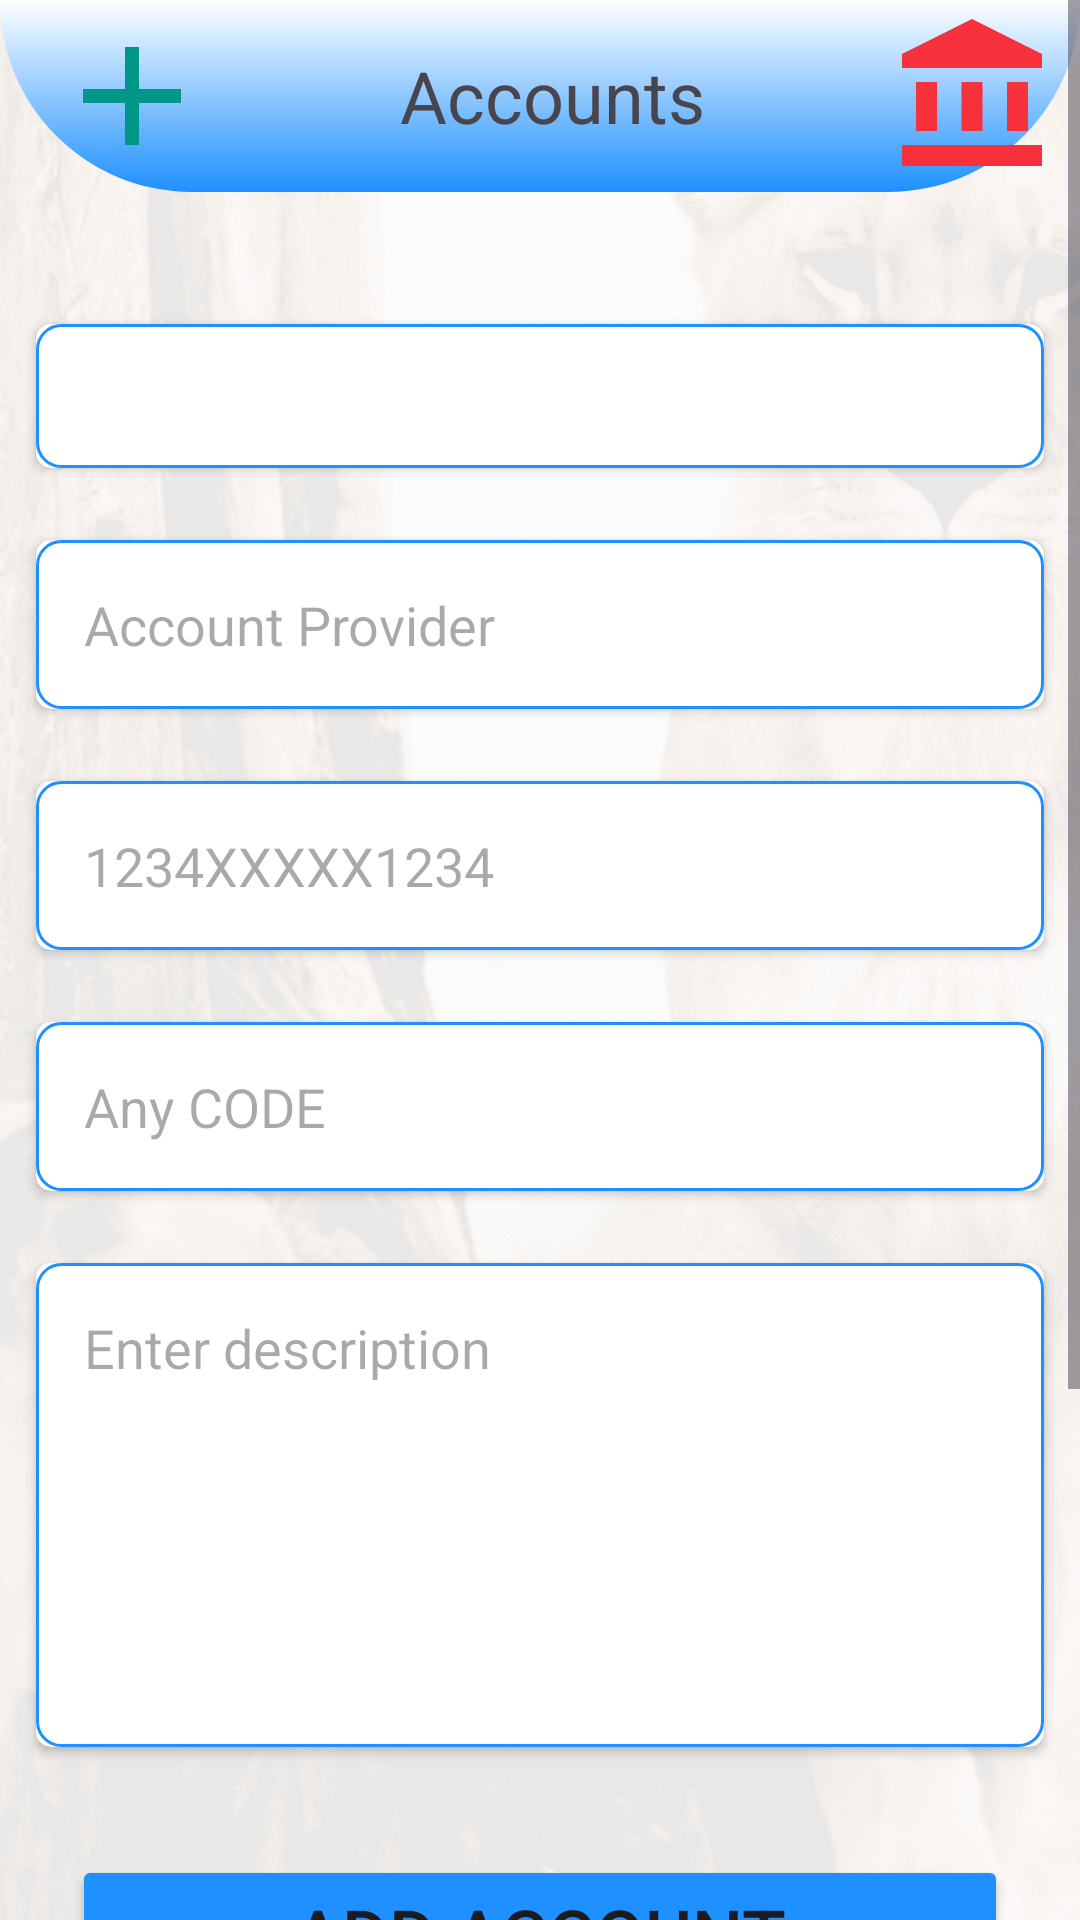

Icons on this 1080x1920 Android screen, each with the point to tap as [x,y]:
add: [132,96]
balance: [972,96]
